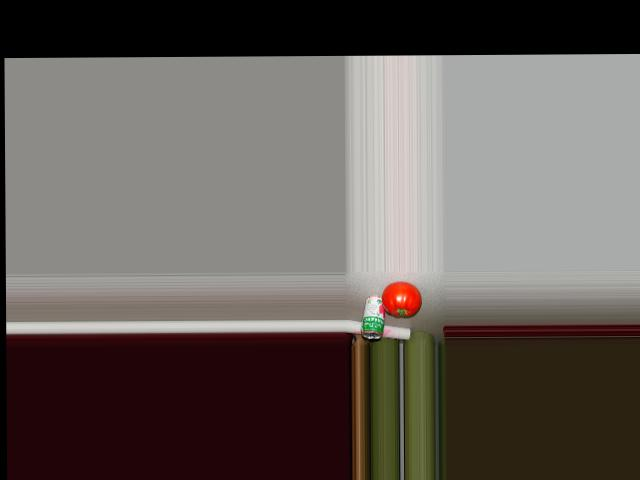tomato: (382, 281, 421, 315)
